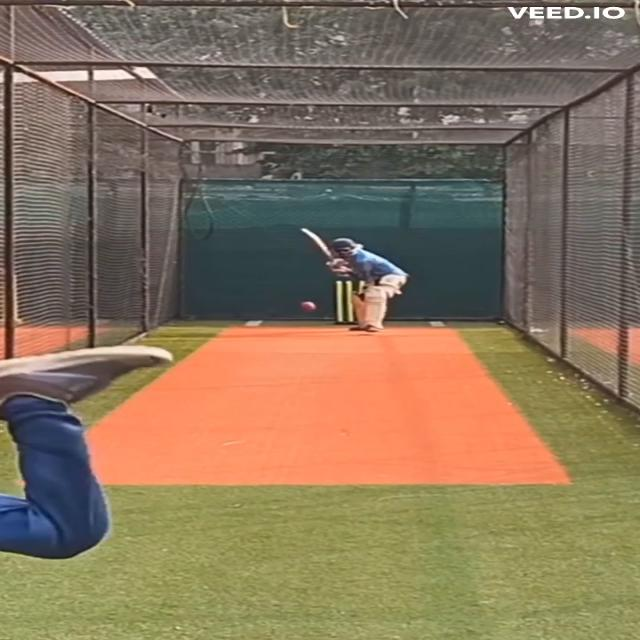ball: (299, 300, 317, 312)
stump: (333, 280, 366, 326)
